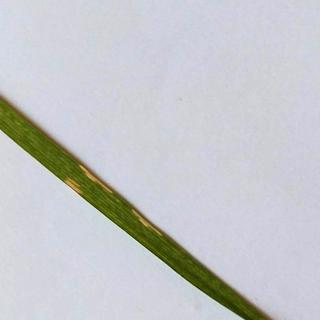Blast: (71, 159, 123, 206)
